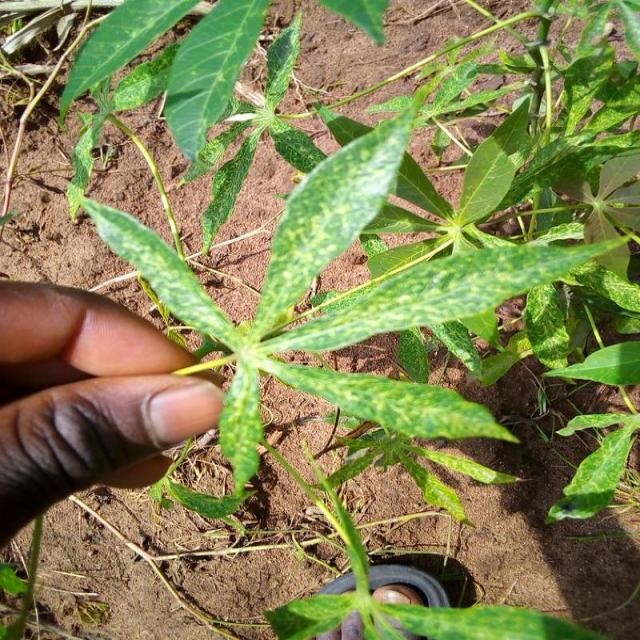cassava leaf: (76, 86, 628, 516), (250, 85, 428, 342), (162, 0, 272, 163)
